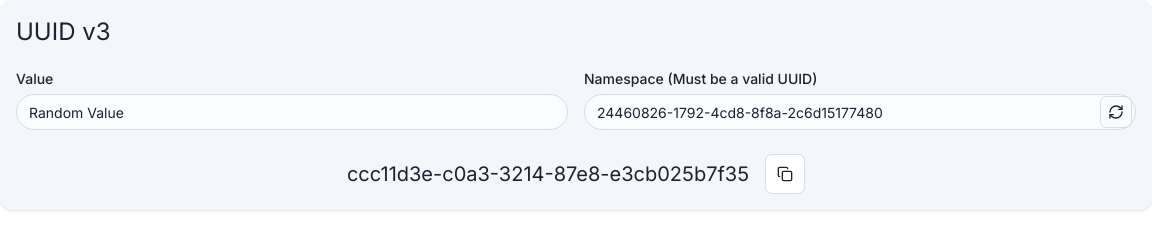
it: <UUIDWithValue /> › disables copying when the input value is blank for v3
Step 1. Clear the field labelled "Value" → x=292, y=112, box x1=16 y1=94 x2=568 y2=130
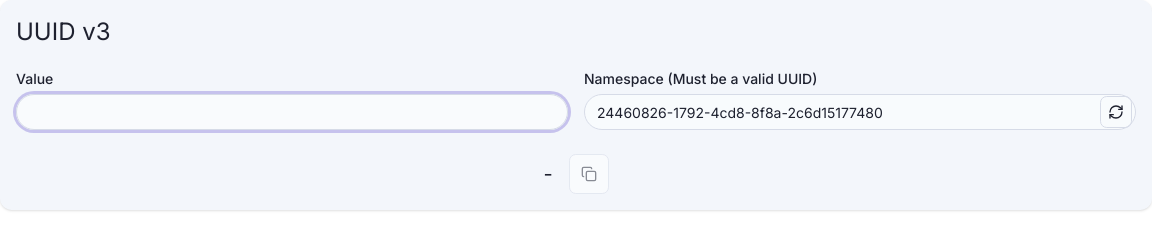
Result: the text with test id "uuid-card-value" reads "-" at x1=543 y1=162 x2=553 y2=186
Result: the button with test id "copy-button" is disabled at x1=569 y1=154 x2=609 y2=194
